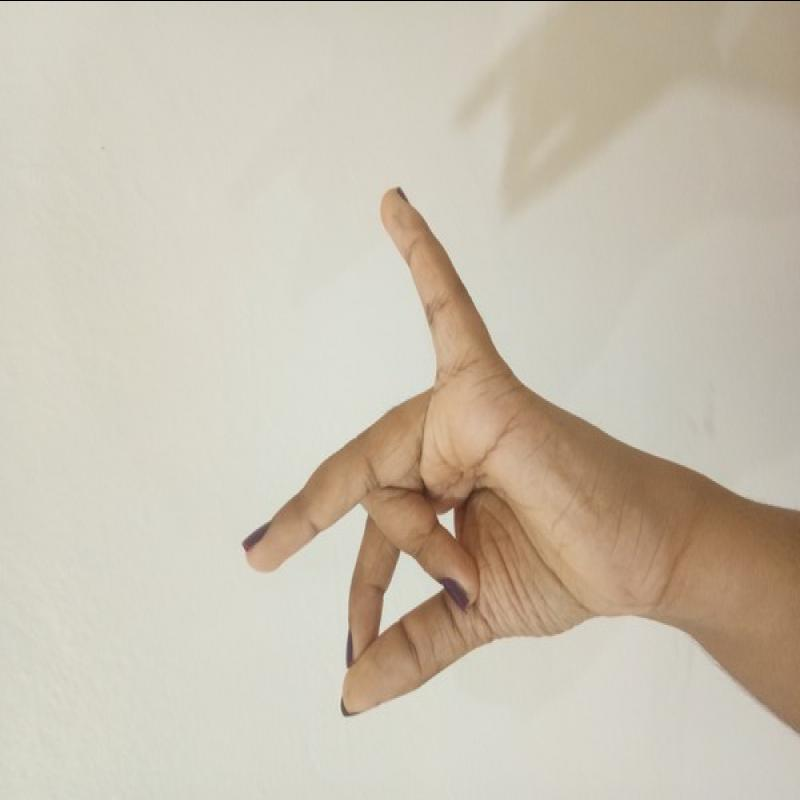Katakam: (230, 171, 693, 730)
